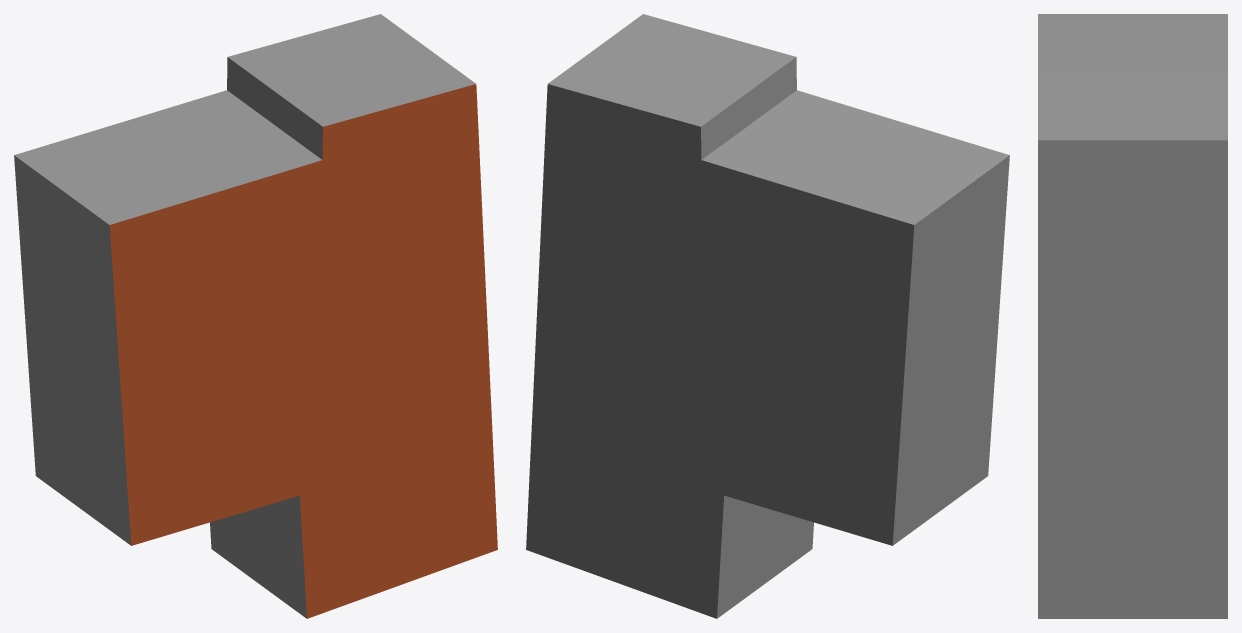
File: construction_0589_assumed_A_Casa_h6m.obj
3 renders of one model, left to right at view 1: azimuth 30°, elevation 25°; view 2: azimuth 150°, elevation 25°; view 3: azimuth 270°, elevation 25°, orthographic.
Visible parts, largest first — view 1: construction_0589_assumed_A_Casa; view 2: construction_0589_assumed_A_Casa; view 3: construction_0589_assumed_A_Casa.
Part boxes in pixels (x1=…): construction_0589_assumed_A_Casa: x1=14, y1=14, x2=497, y2=618; construction_0589_assumed_A_Casa: x1=526, y1=14, x2=1009, y2=618; construction_0589_assumed_A_Casa: x1=1038, y1=14, x2=1227, y2=618.
Bounding box in the file's own units: 14.08 × 17.1 × 6.
